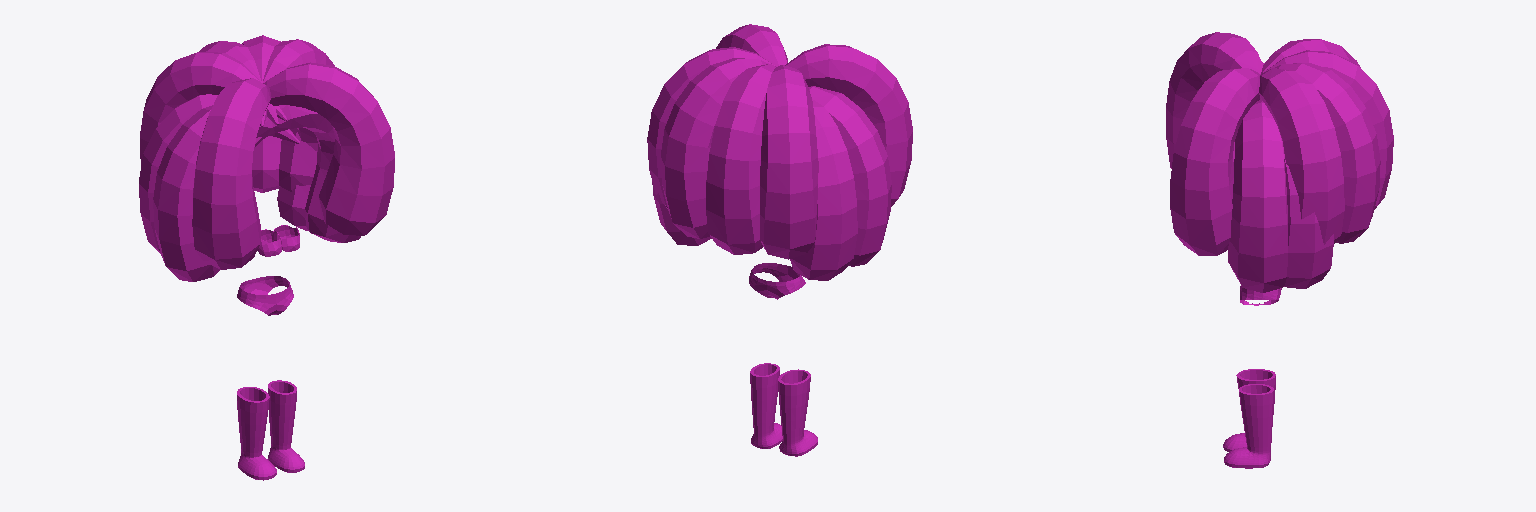
The model's file is Mudiska.obj.
3 renders of one model, left to right at view 1: azimuth 30°, elevation 25°; view 2: azimuth 150°, elevation 25°; view 3: azimuth 270°, elevation 25°, orthographic.
Parts seen in each view (by area): view 1: Cube.001_Cube.019; view 2: Cube.001_Cube.019; view 3: Cube.001_Cube.019.
Part boxes in pixels (x1,y1,x2,y2): Cube.001_Cube.019: (139, 35, 394, 480); Cube.001_Cube.019: (647, 24, 912, 456); Cube.001_Cube.019: (1166, 32, 1393, 468).
Size of the model in its own units: 1.46 by 2.57 by 1.32.